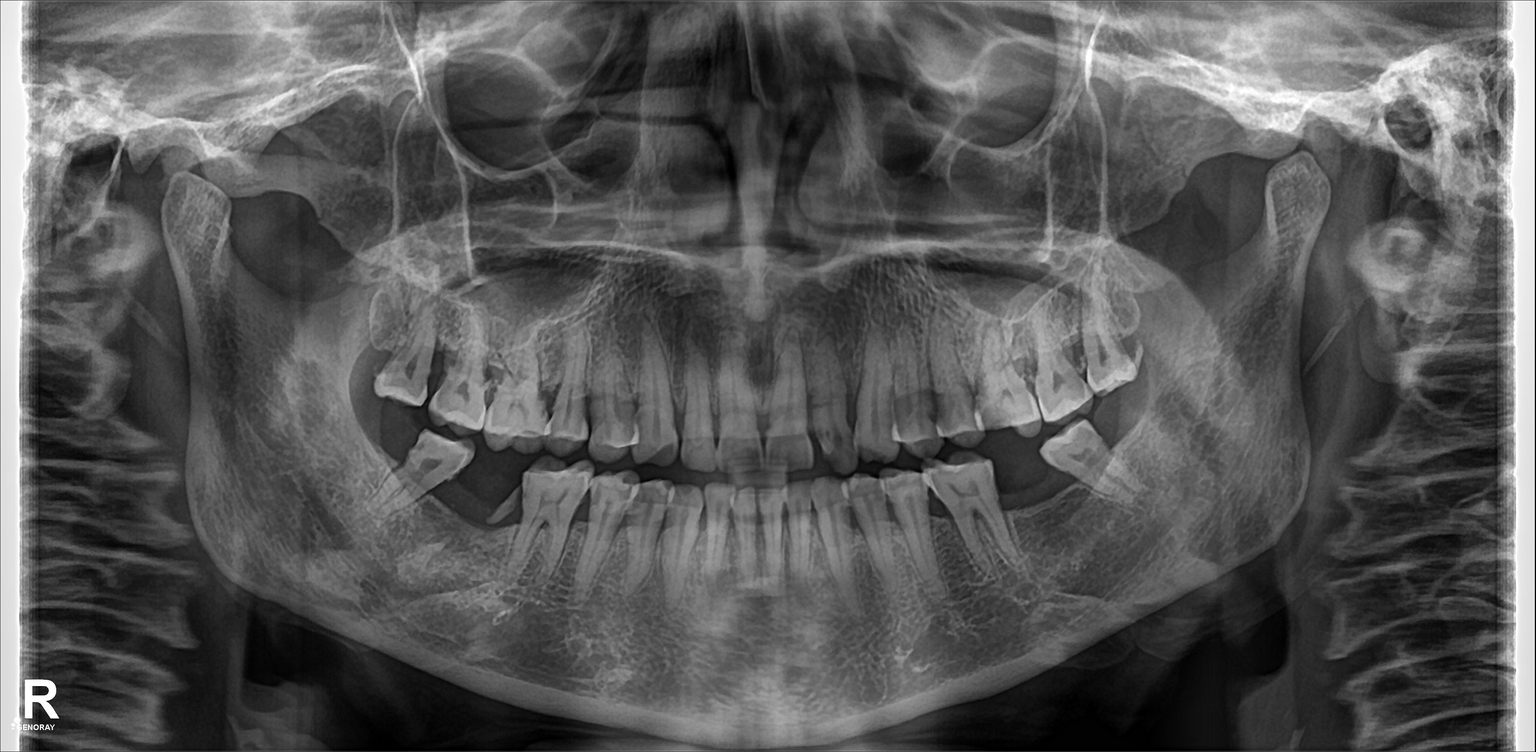Dental Caries: (914, 382, 948, 425), (477, 365, 507, 405)
Impacted Third Molar: (1045, 421, 1141, 496)
Missing Tooth: (998, 456, 1064, 535), (469, 465, 520, 560), (1102, 404, 1175, 457), (358, 411, 407, 487)
